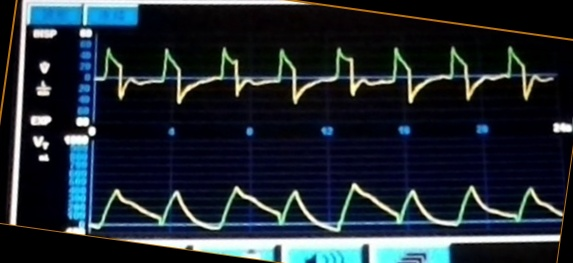Premature_cycling Flow: (99, 32, 553, 119)
Premature_cycling Volume: (94, 176, 561, 232)
